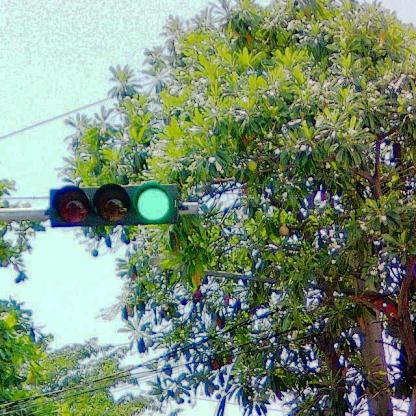Traffic Light -Green-: (48, 182, 176, 230)
